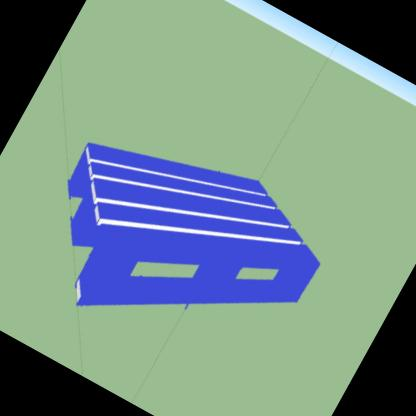BoxFace: (62, 136, 325, 309)
